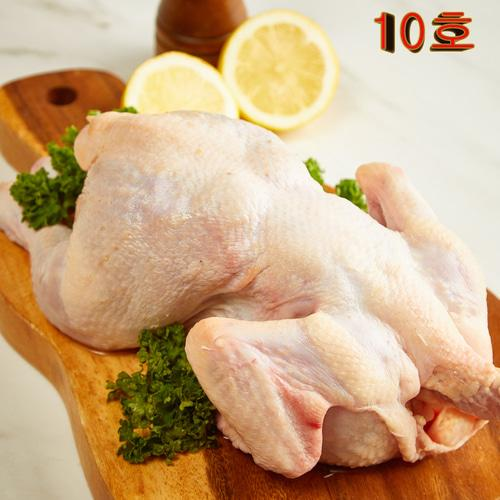chicken: (0, 84, 389, 375)
